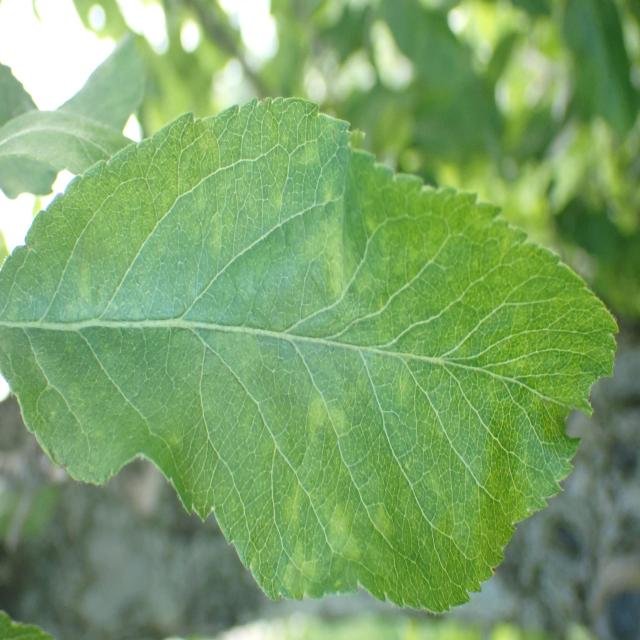scab: (37, 137, 571, 590)
